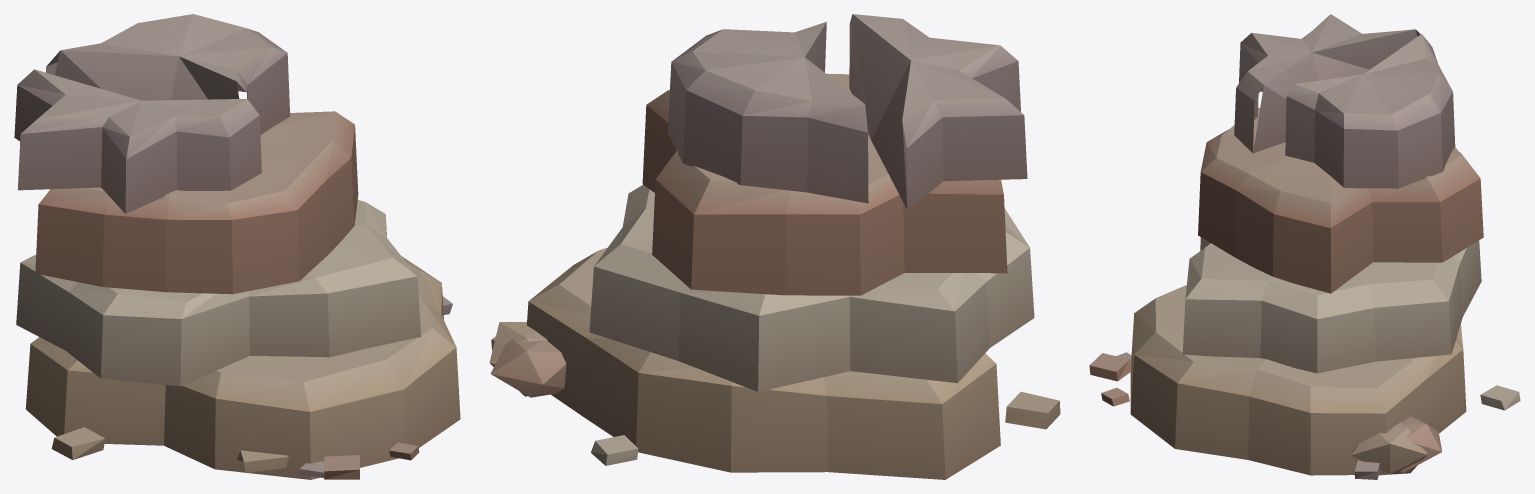
File: sandstone_outcrop_a.glb
3 views of the same model, side by side, from view 1: azimuth 30°, elevation 25°; view 2: azimuth 150°, elevation 25°; view 3: azimuth 270°, elevation 25° (orthographic). The views are drawn at different scales.
Parts seen in each view (by area): view 1: sandstone_outcrop_a; view 2: sandstone_outcrop_a; view 3: sandstone_outcrop_a.
Part boxes in pixels (x1=…): sandstone_outcrop_a: x1=14, y1=14, x2=460, y2=479; sandstone_outcrop_a: x1=489, y1=14, x2=1060, y2=479; sandstone_outcrop_a: x1=1089, y1=14, x2=1520, y2=479.
Size of the model in its own units: 1.82 by 1.33 by 1.68.
